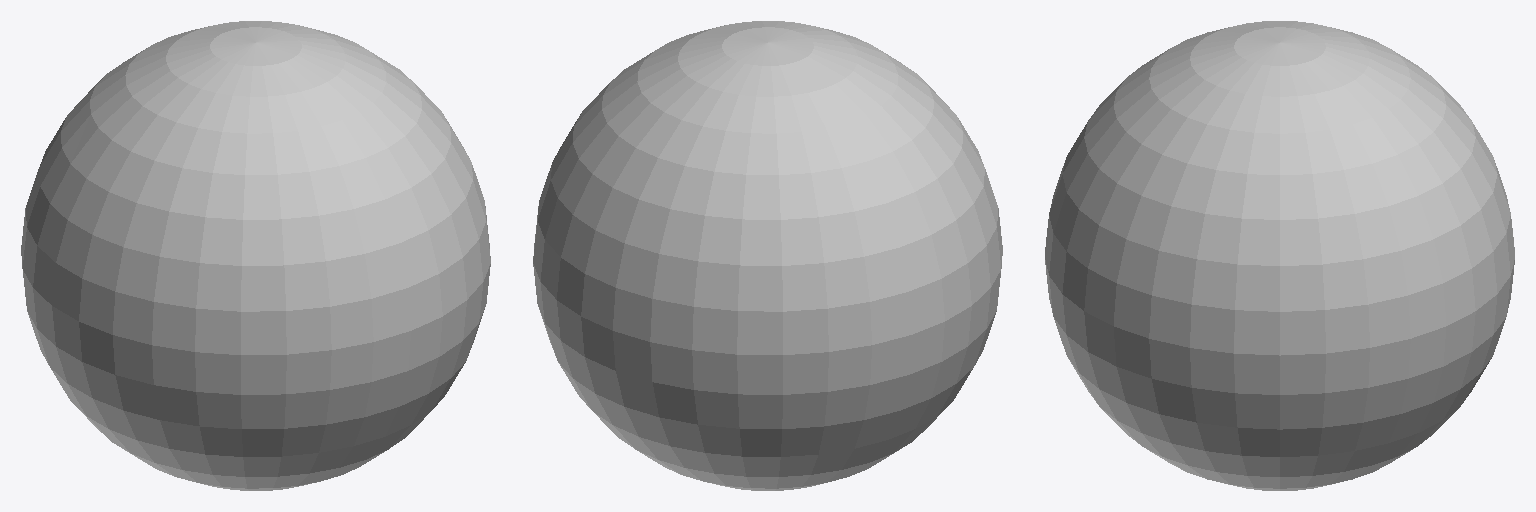
The model's file is test_ball.obj.
3 views of the same model, side by side, from view 1: azimuth 30°, elevation 25°; view 2: azimuth 150°, elevation 25°; view 3: azimuth 270°, elevation 25° (orthographic).
Parts seen in each view (by area): view 1: Sphere; view 2: Sphere; view 3: Sphere.
Boxes of the visible parts, x1,y1,x2,y2 form: Sphere: [21, 21, 490, 490]; Sphere: [533, 21, 1002, 490]; Sphere: [1045, 21, 1514, 490].
Size of the model in its own units: 0.2 by 0.2 by 0.2.